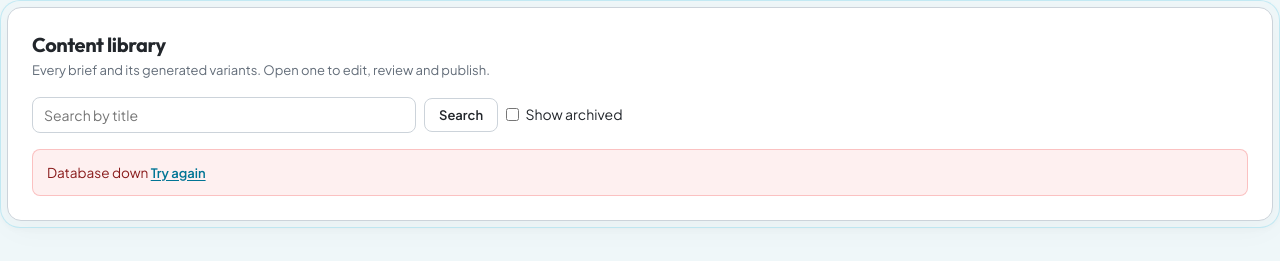
Test: ItemLibrary › reports a load error and retries
Expected: the message shows "Database down", [47,164,148,180]
Click the button "Try again" at (178, 172), box [151,164,206,180]
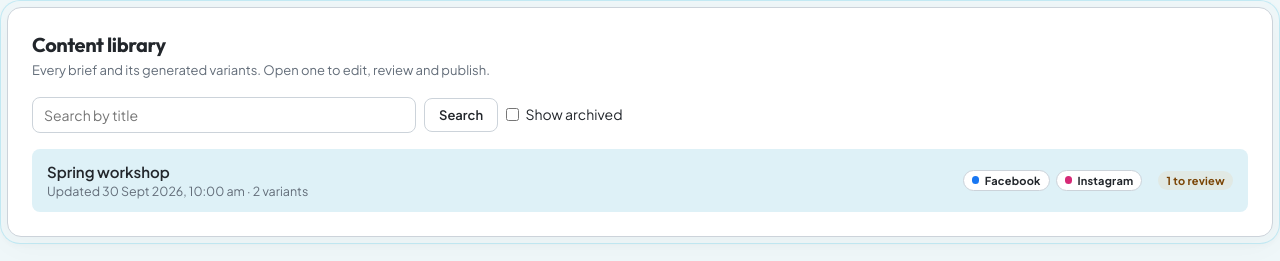
Expected: the text "Spring workshop" is shown, [47,162,170,180]
